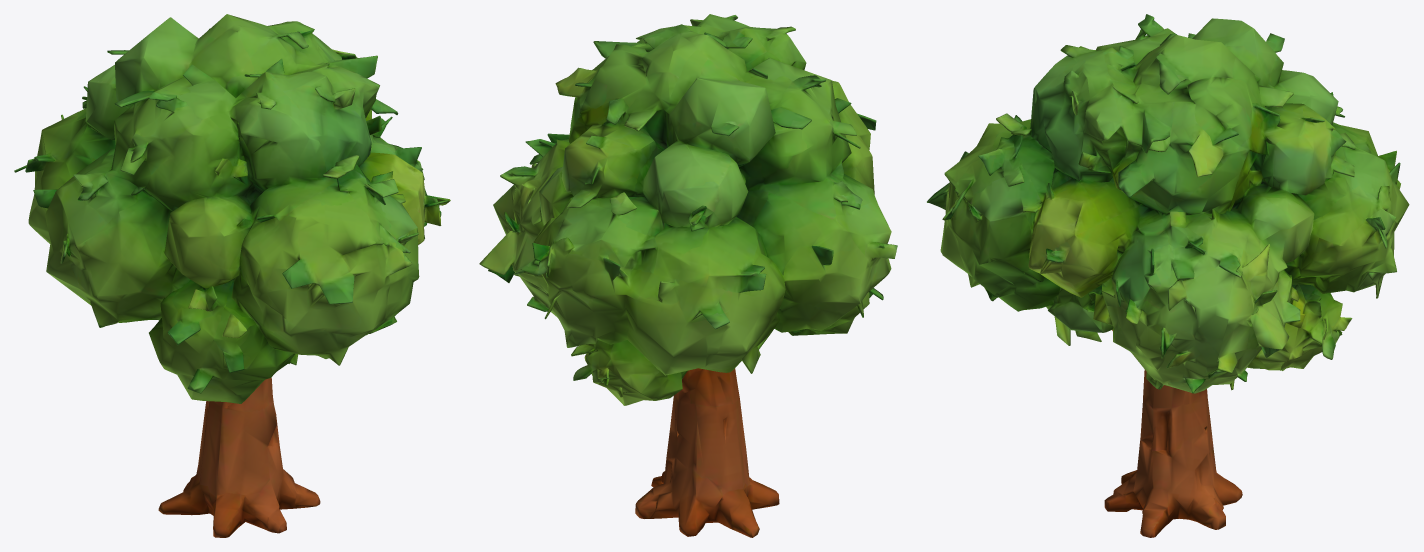
File: tree.glb
3 renders of one model, left to right at view 1: azimuth 30°, elevation 25°; view 2: azimuth 150°, elevation 25°; view 3: azimuth 270°, elevation 25°, orthographic.
Visible parts, largest first — view 1: tripo_node_c87c8c1f-d965-4071-a7bf-220fe6b372d6; view 2: tripo_node_c87c8c1f-d965-4071-a7bf-220fe6b372d6; view 3: tripo_node_c87c8c1f-d965-4071-a7bf-220fe6b372d6.
Part boxes in pixels (x1,y1,x2,y2): tripo_node_c87c8c1f-d965-4071-a7bf-220fe6b372d6: (14, 14, 450, 537); tripo_node_c87c8c1f-d965-4071-a7bf-220fe6b372d6: (479, 14, 897, 537); tripo_node_c87c8c1f-d965-4071-a7bf-220fe6b372d6: (927, 14, 1409, 537).
Bounding box in the file's own units: 0.829 × 0.9998 × 0.9281.
Materials: 1 (1 with a texture image).
